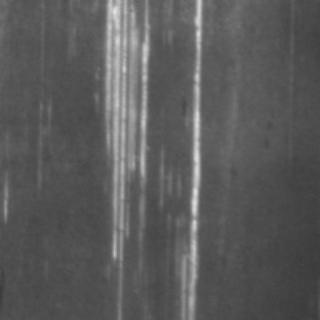scratches: (96, 0, 154, 264), (173, 1, 205, 316)
